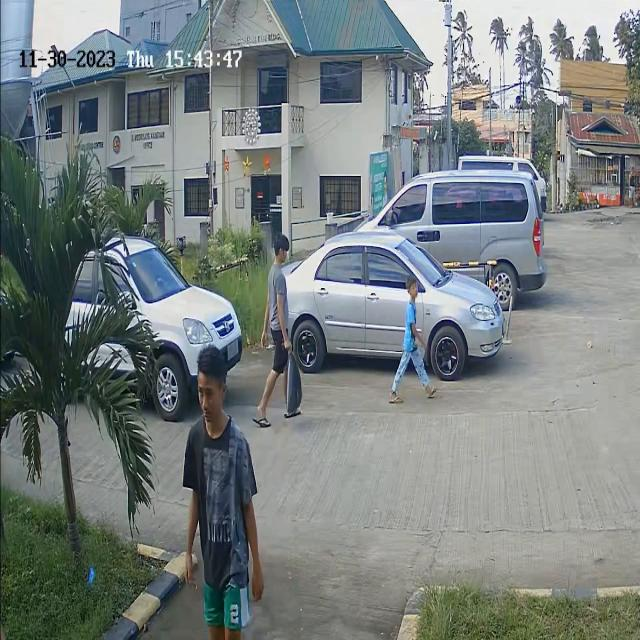garbage: (276, 341, 310, 418)
person: (389, 269, 429, 401), (258, 231, 296, 352), (195, 342, 237, 396)
